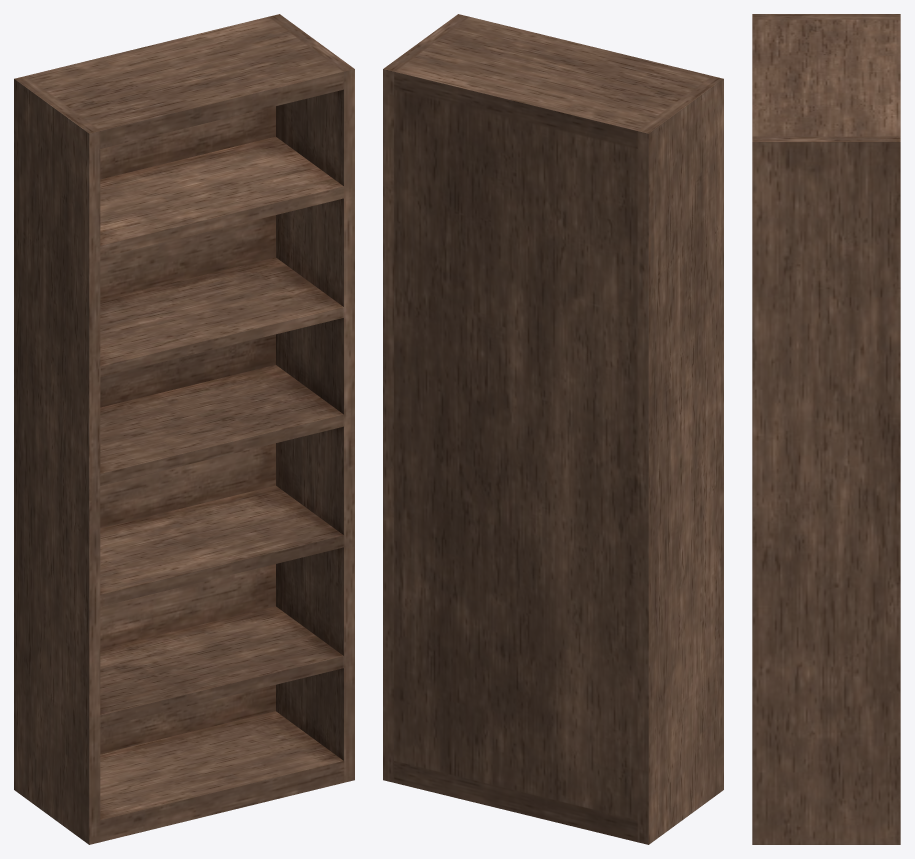
File: Bookshelf.glb
The picture shows the model from 3 angles, left to right: view 1: azimuth 30°, elevation 25°; view 2: azimuth 150°, elevation 25°; view 3: azimuth 270°, elevation 25°; orthographic projection.
Visible parts, largest first — view 1: bookshelf1; view 2: bookshelf1; view 3: bookshelf1.
Boxes of the visible parts, x1,y1,x2,y2 form: bookshelf1: (14,14,354,844); bookshelf1: (383,14,723,844); bookshelf1: (752,14,900,844).
Bounding box in the file's own units: 0.9883 × 2.53 × 0.4845.
Materials: 1 (1 with a texture image).
